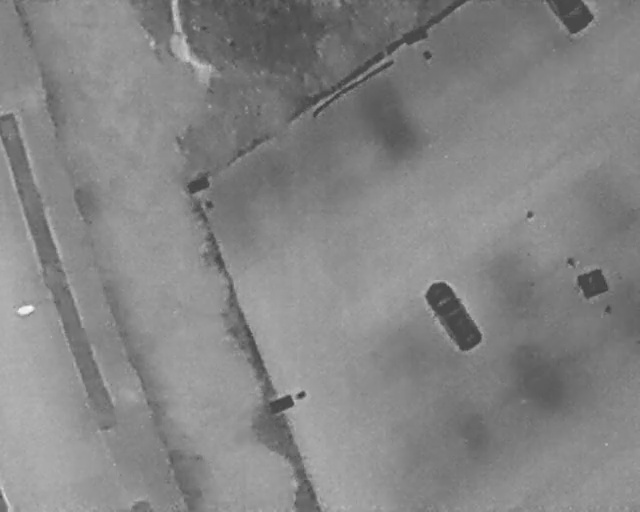Car: (418, 273, 486, 357), (543, 1, 596, 34)
